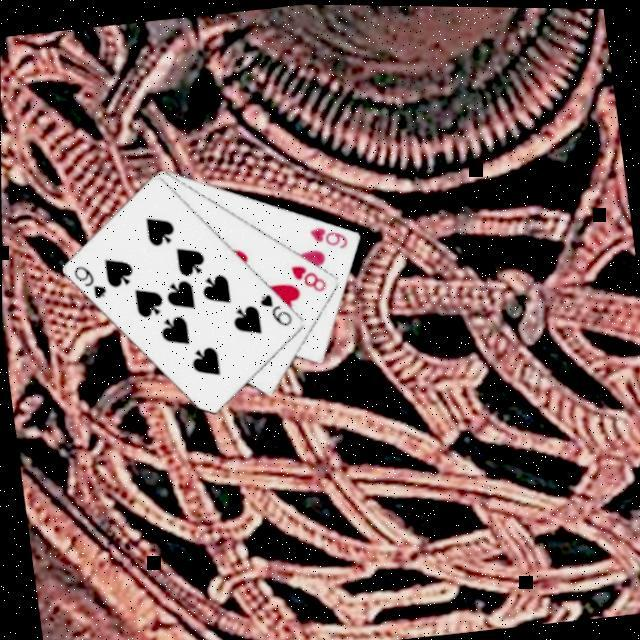6H: (306, 218, 352, 254)
8H: (288, 256, 330, 296)
9S: (256, 286, 296, 330), (70, 259, 110, 302)
